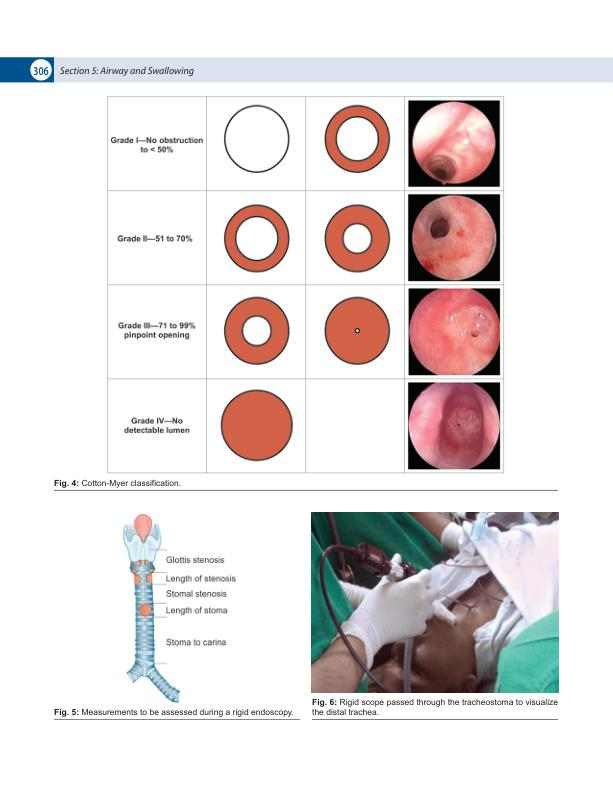caption: (311, 698, 559, 718), (53, 708, 295, 718), (53, 479, 181, 488)
header: (59, 65, 195, 77)
image: (105, 94, 506, 475), (311, 511, 559, 694), (86, 503, 242, 705)
